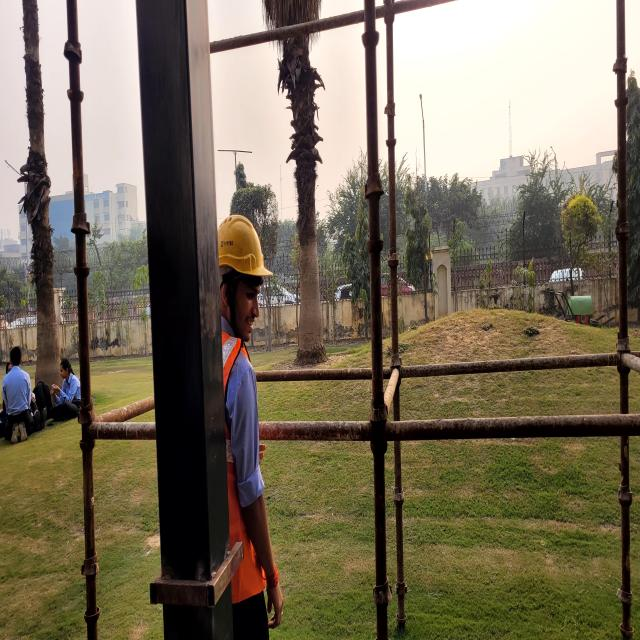safe: (215, 194, 300, 640)
unsafe: (0, 346, 32, 446)
